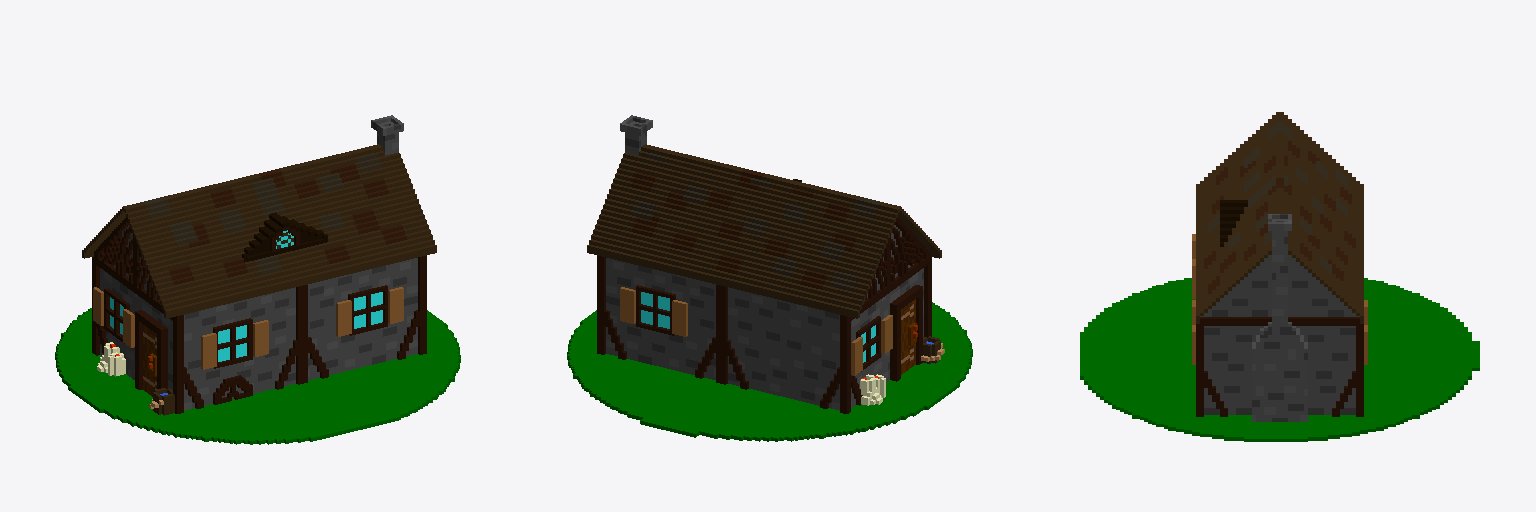
3 renders of one model, left to right at view 1: azimuth 30°, elevation 25°; view 2: azimuth 150°, elevation 25°; view 3: azimuth 270°, elevation 25°, orthographic.
Parts seen in each view (by area): view 1: cottage; view 2: cottage; view 3: cottage.
Part boxes in pixels (left/top/right/bottom): cottage: left=55, top=115, right=460, bottom=444; cottage: left=567, top=115, right=972, bottom=441; cottage: left=1080, top=112, right=1479, bottom=441.
Size of the model in its own units: 100 by 56 by 100.
1 materials, 1 textured.